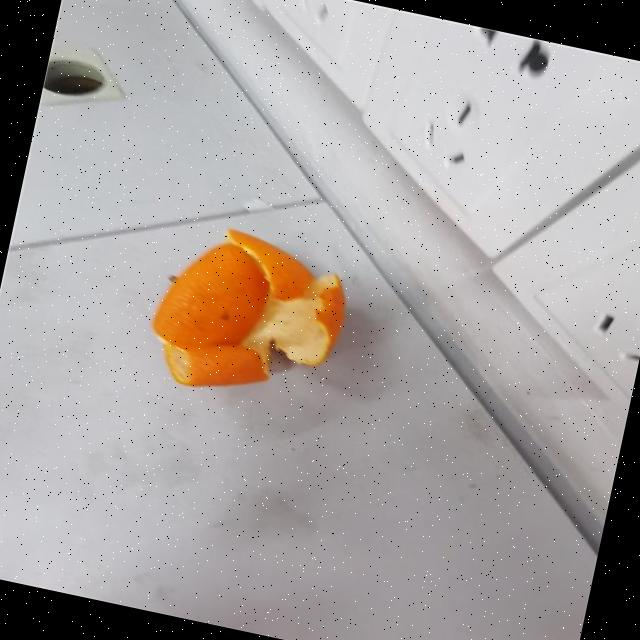orange-peel: (140, 213, 358, 414)
